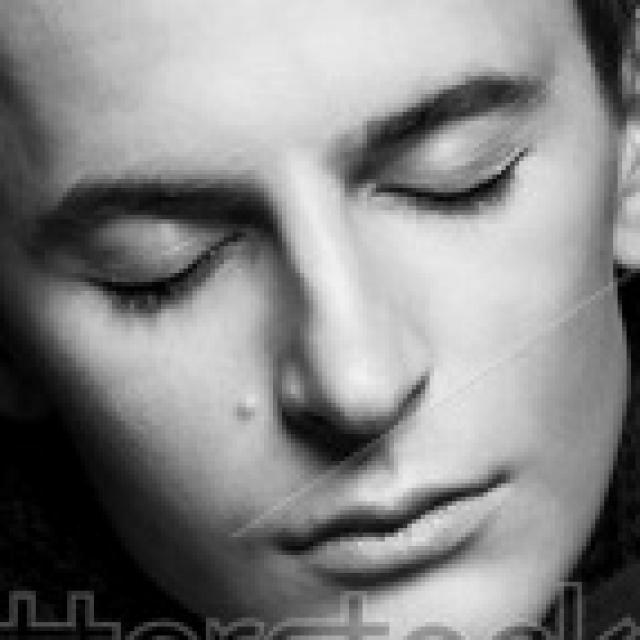real: (24, 23, 630, 621), (54, 100, 561, 312)
